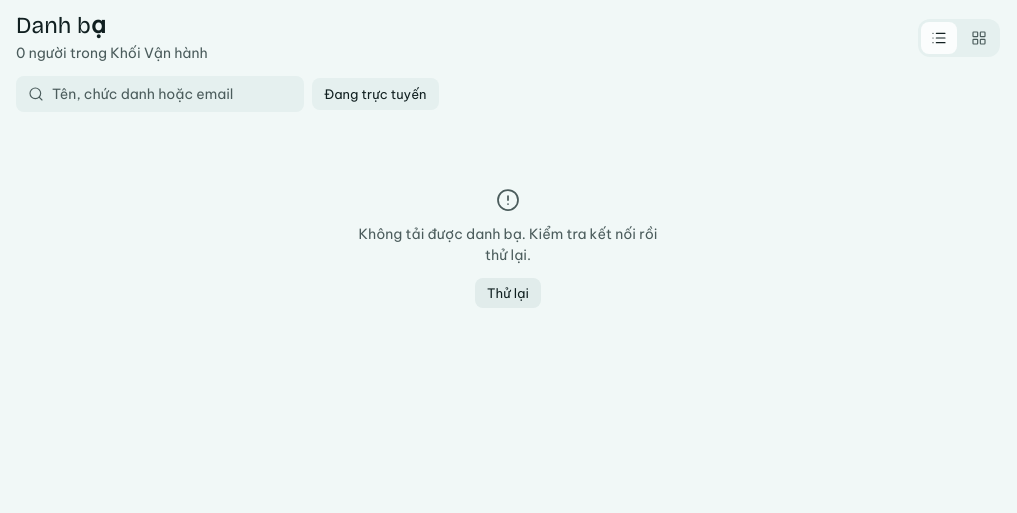
Scenario: ContactsScreen: states › says it could not load, and retries
Expected: the text "Không tải được danh bạ. Kiểm tra kết nối rồi thử lại." is shown, x1=348 y1=224 x2=668 y2=266
Click the button "Thử lại" at coordinates (508, 293), box x1=475 y1=278 x2=541 y2=308
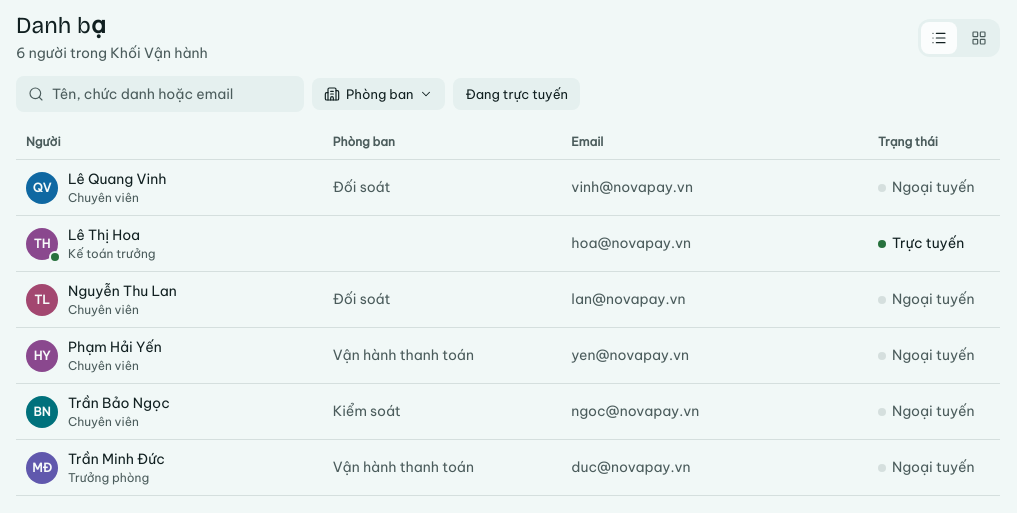
Result: the button "Trần Minh Đức" is shown at x1=68 y1=449 x2=165 y2=470
